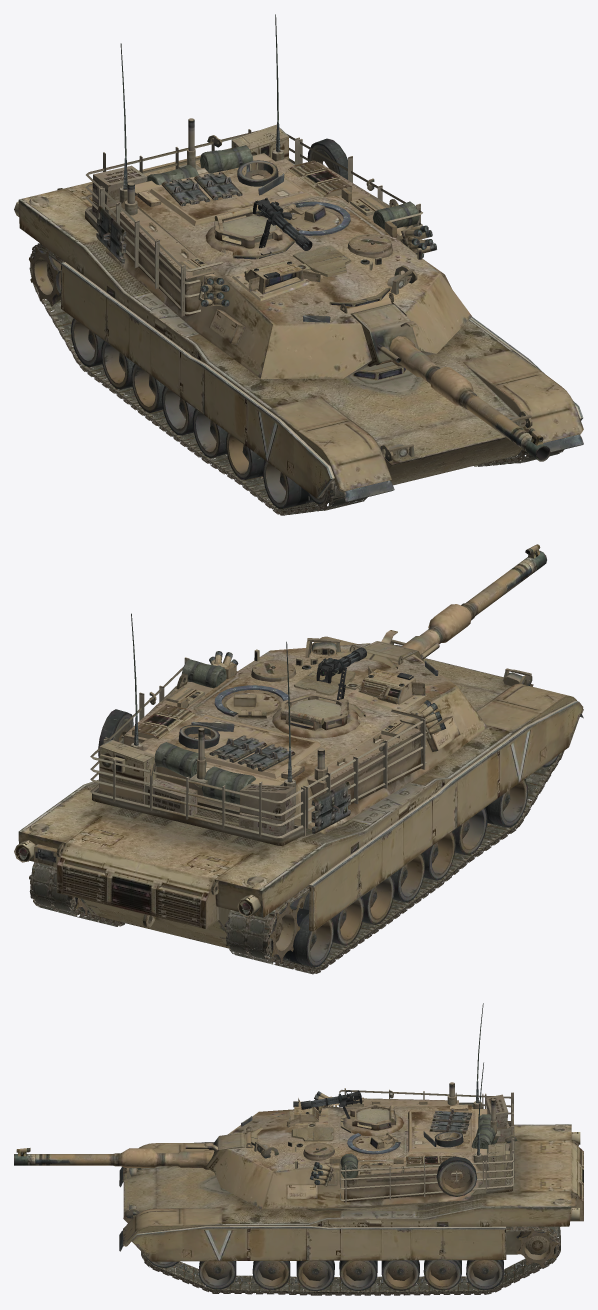
The model's file is tank.glb.
3 views of the same model, one above another, from view 1: azimuth 30°, elevation 25°; view 2: azimuth 150°, elevation 25°; view 3: azimuth 270°, elevation 25° (orthographic). The views are drawn at different scales.
Visible parts, largest first — view 1: Object_5, Object_2, Object_3; view 2: Object_5, Object_2, Object_3; view 3: Object_5, Object_2, Object_3.
Part boxes in pixels (bbox=[...]): Object_5: bbox=[14, 14, 583, 508]; Object_2: bbox=[29, 243, 564, 515]; Object_3: bbox=[253, 198, 312, 250]; Object_5: bbox=[14, 544, 583, 967]; Object_2: bbox=[29, 751, 564, 974]; Object_3: bbox=[316, 647, 366, 683]; Object_5: bbox=[14, 1003, 583, 1291]; Object_2: bbox=[141, 1226, 560, 1295]; Object_3: bbox=[300, 1090, 362, 1109].
Bounding box in the file's own units: 2.81 × 3.43 × 7.9.
4 materials, 4 textured.
